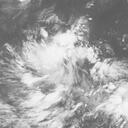cyclone: (19, 30, 85, 101)
